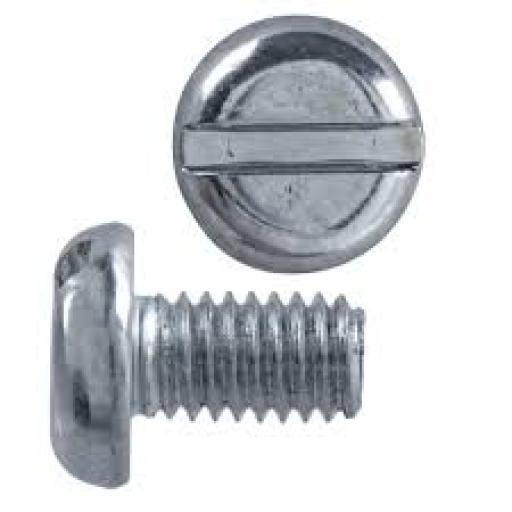Slotted: (175, 14, 424, 275)
